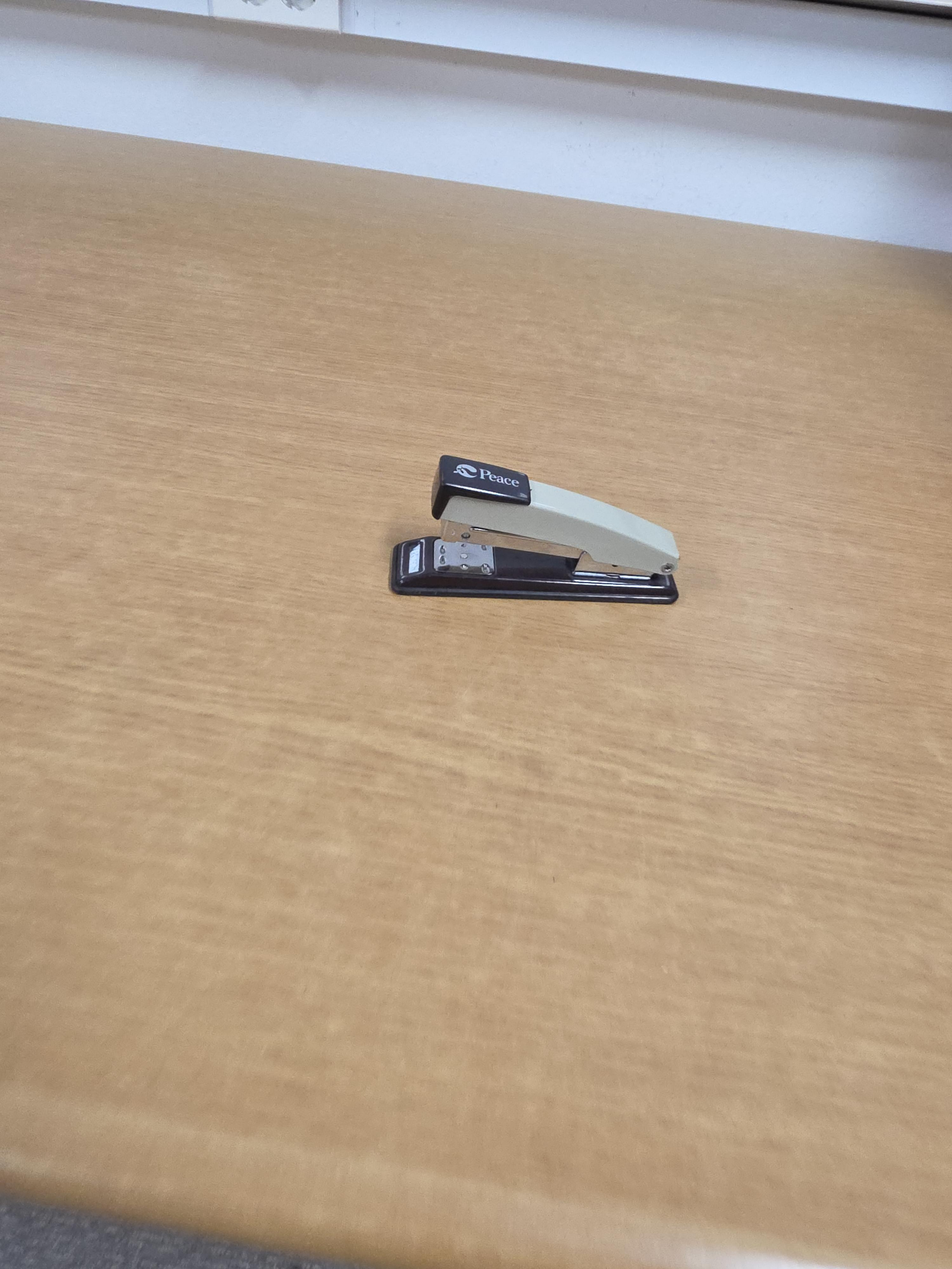stapler: (388, 454, 681, 605)
